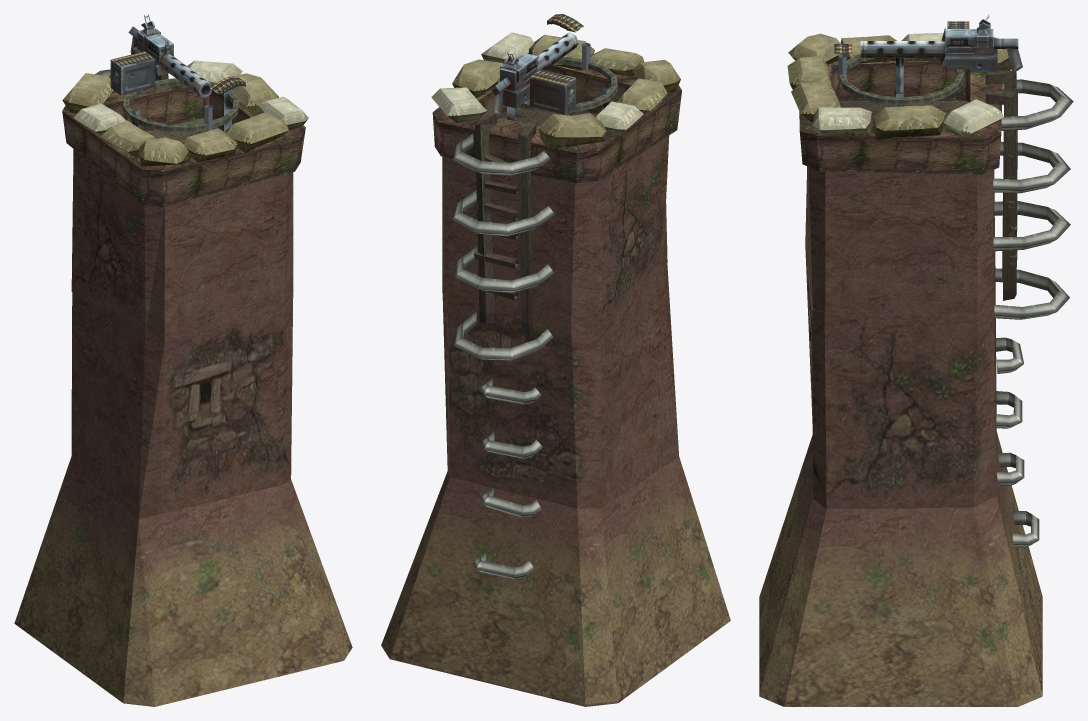
The model's file is C1SMMGUNTWH.obj.
The picture shows the model from 3 angles, left to right: view 1: azimuth 30°, elevation 25°; view 2: azimuth 150°, elevation 25°; view 3: azimuth 270°, elevation 25°; orthographic projection. The views are drawn at different scales.
Parts seen in each view (by area): view 1: Node 0, Node 13, Node 12, Node 5, Node 11, Node 10; view 2: Node 0, Node 13, Node 9, Node 5, Node 11, Node 10, Node 12; view 3: Node 0, Node 13, Node 9, Node 10, Node 5, Node 12, Node 11.
Boxes of the visible parts, x1,y1,x2,y2 form: Node 0: (14, 292, 352, 706); Node 13: (62, 78, 305, 342); Node 12: (139, 112, 288, 166); Node 5: (110, 14, 212, 97); Node 11: (62, 73, 155, 157); Node 10: (187, 60, 308, 129); Node 0: (381, 263, 730, 706); Node 13: (432, 57, 681, 330); Node 9: (452, 112, 554, 333); Node 5: (491, 32, 578, 116); Node 11: (539, 78, 667, 149); Node 10: (431, 32, 533, 123); Node 12: (528, 34, 680, 93); Node 0: (759, 251, 1069, 706); Node 13: (799, 53, 1002, 324); Node 9: (985, 70, 1073, 300); Node 10: (812, 99, 1003, 139); Node 5: (860, 15, 1022, 73); Node 12: (787, 33, 841, 122); Node 11: (840, 33, 1011, 70).
Size of the model in its own units: 4.13 by 10.15 by 4.57.
18 materials, 18 textured.
